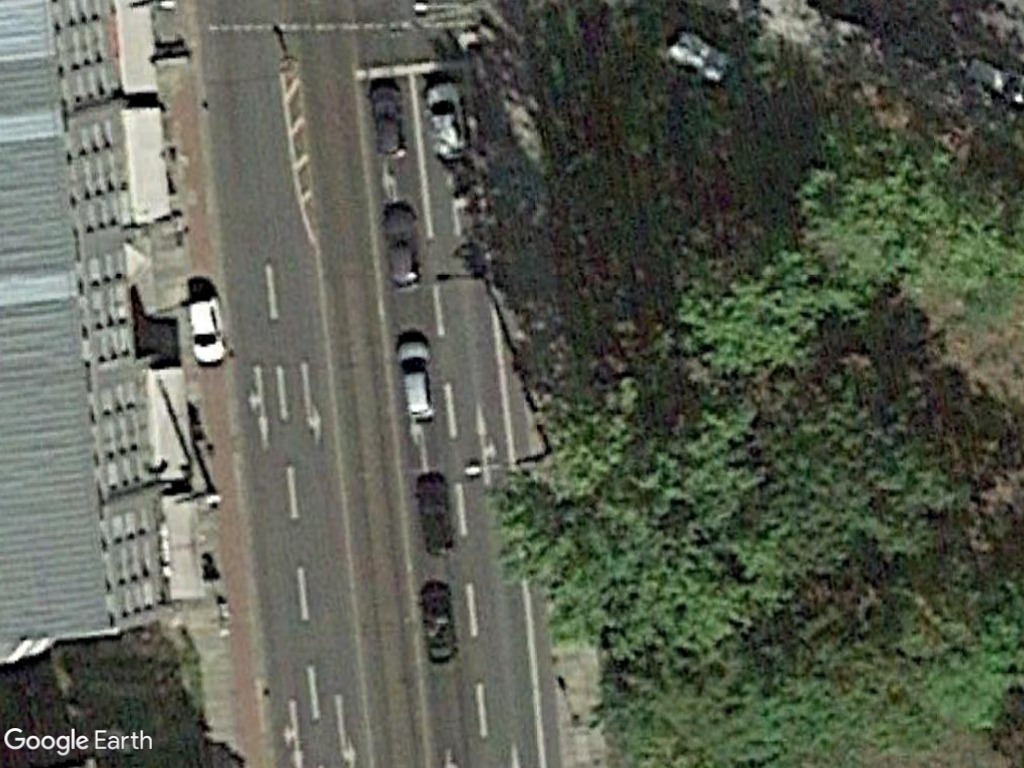car: (181, 287, 232, 369)
van: (391, 333, 439, 430)
